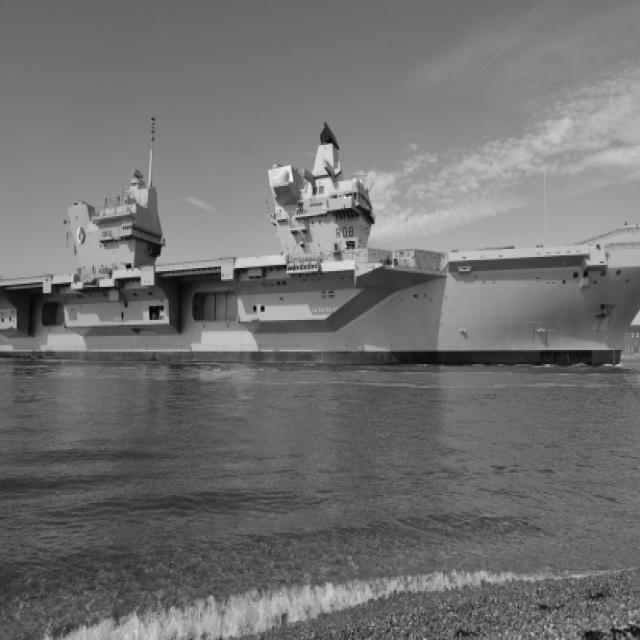Portanaves: (1, 99, 640, 378)
